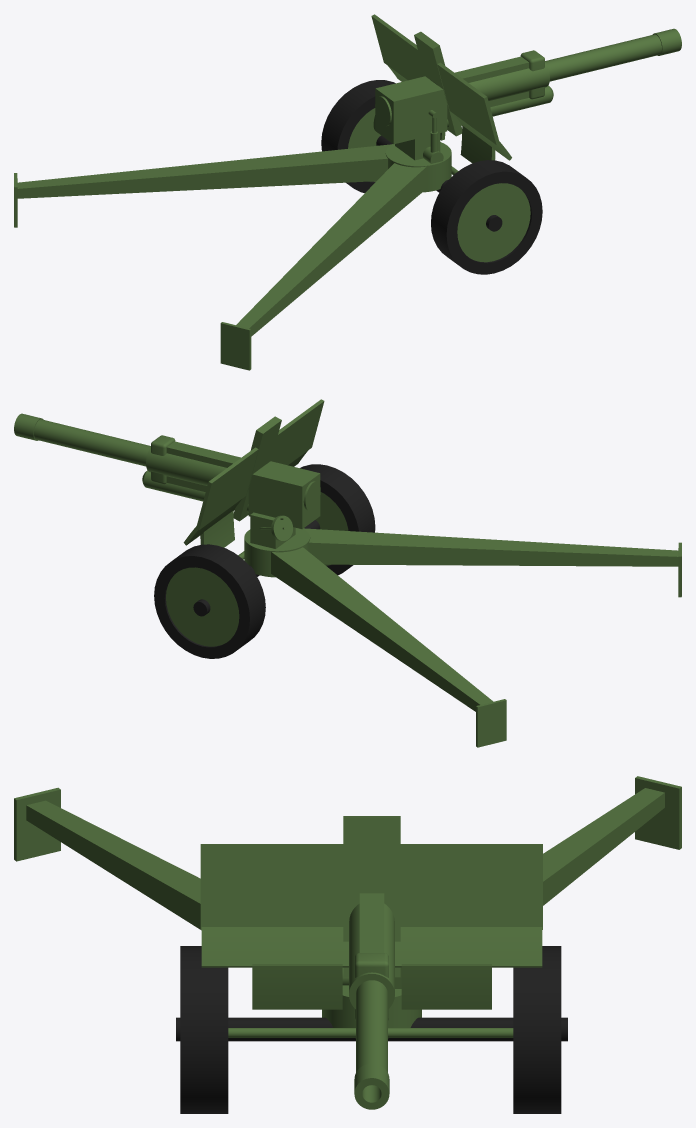
The picture shows the model from 3 angles, top to bottom: view 1: azimuth 30°, elevation 25°; view 2: azimuth 150°, elevation 25°; view 3: azimuth 270°, elevation 25°; orthographic projection. The views are drawn at different scales.
Visible parts, largest first — view 1: ось, левая_опора, козённик, правая_опора, щит, ствол; view 2: ось, правая_опора, левая_опора, козённик, щит, ствол; view 3: щит, ось, правая_опора, левая_опора, козённик, ствол.
Part boxes in pixels (x1,y1,x2,y2): ось: (321, 80, 542, 274); левая_опора: (14, 144, 391, 227); козённик: (373, 50, 553, 163); правая_опора: (220, 163, 426, 370); щит: (371, 14, 511, 163); ствол: (545, 28, 681, 81); ось: (154, 464, 375, 658); правая_опора: (303, 528, 681, 597); левая_опора: (271, 547, 506, 747); козённик: (142, 435, 320, 548); щит: (183, 399, 324, 547); ствол: (14, 413, 150, 466); щит: (200, 816, 542, 1009); ось: (176, 946, 567, 1113); правая_опора: (14, 787, 201, 930); левая_опора: (543, 776, 681, 905); козённик: (342, 893, 401, 1019); ствол: (354, 980, 389, 1109).
Bounding box in the file's own units: 1082 × 340 × 717.
